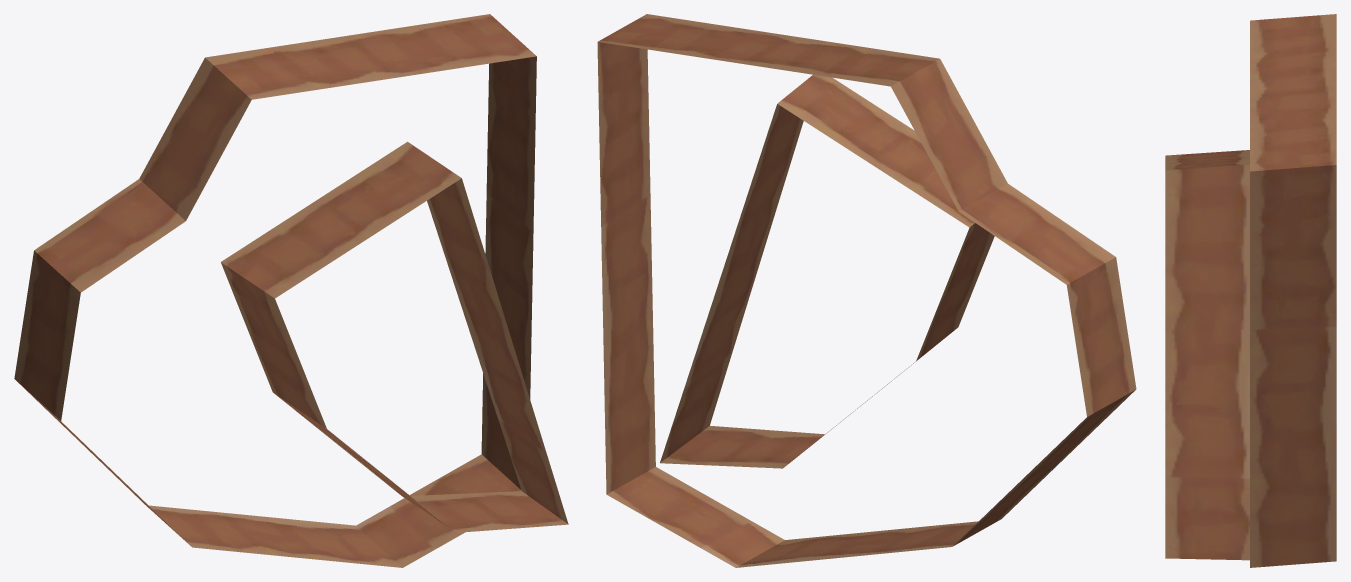
The model's file is sundries_39_61b6e26c__ZombiesII_depot_diffuse_09_27748207_c1f257.obj.
The picture shows the model from 3 angles, left to right: view 1: azimuth 30°, elevation 25°; view 2: azimuth 150°, elevation 25°; view 3: azimuth 270°, elevation 25°; orthographic projection. The views are drawn at different scales.
Bounding box in the file's own units: 4.99 × 5.13 × 1.7.
Materials: 1 (1 with a texture image).
